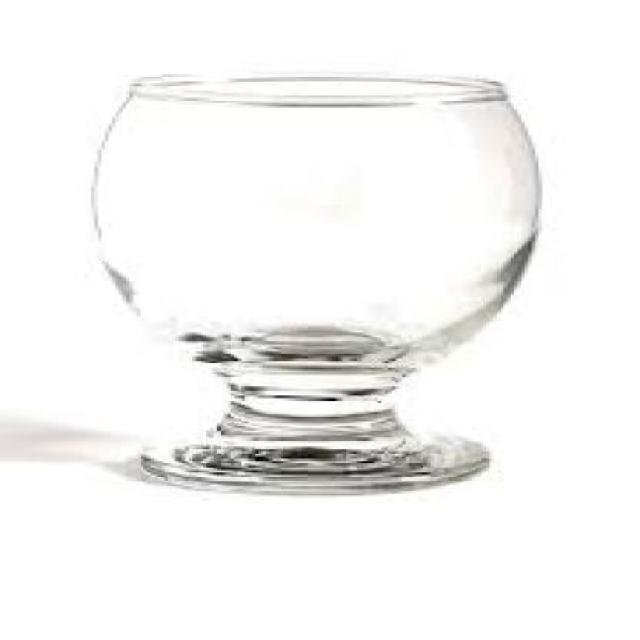kaca: (88, 72, 538, 494)
